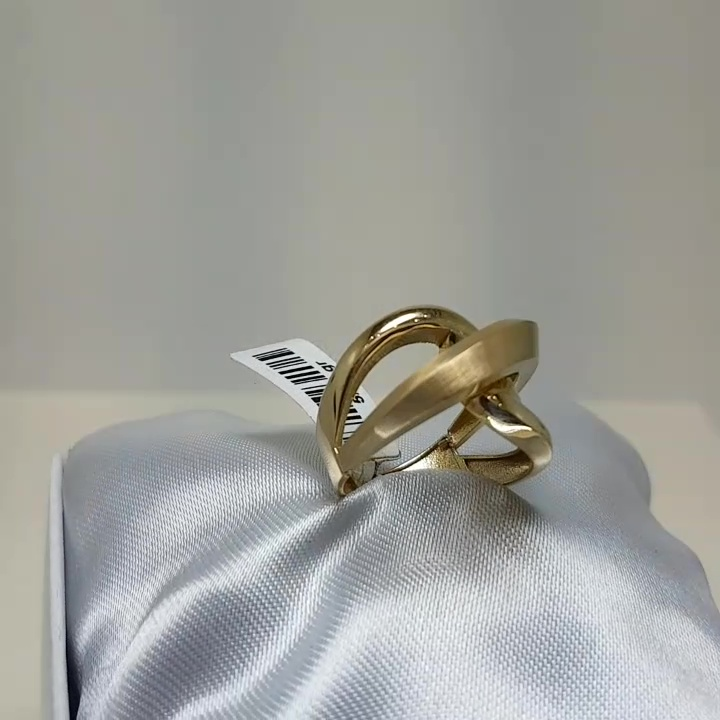Ring 3: (282, 284, 578, 517)
